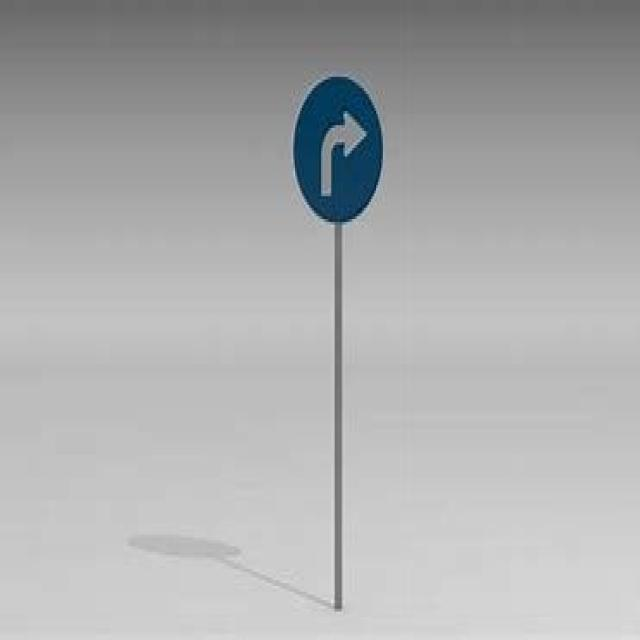COMPULSARY_TURN_RIGHT_AHEAD: (289, 68, 387, 228)
